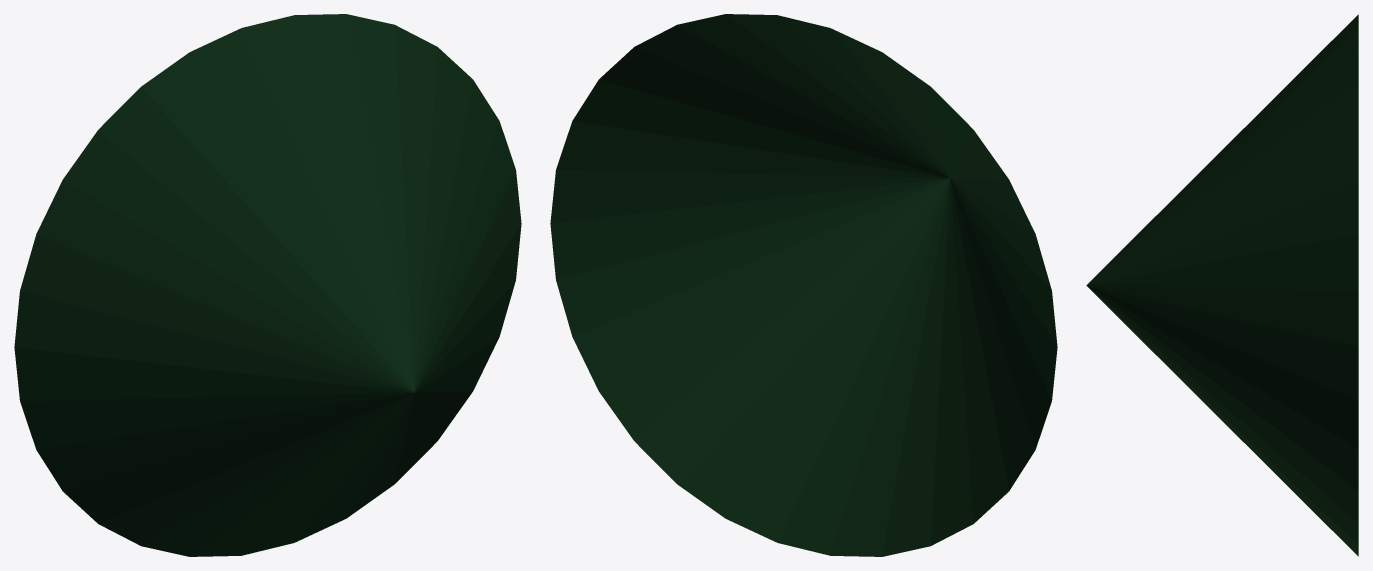
File: grass.obj
3 renders of one model, left to right at view 1: azimuth 30°, elevation 25°; view 2: azimuth 150°, elevation 25°; view 3: azimuth 270°, elevation 25°, orthographic. The views are drawn at different scales.
Bounding box in the file's own units: 0.1 × 0.0995 × 0.05.
